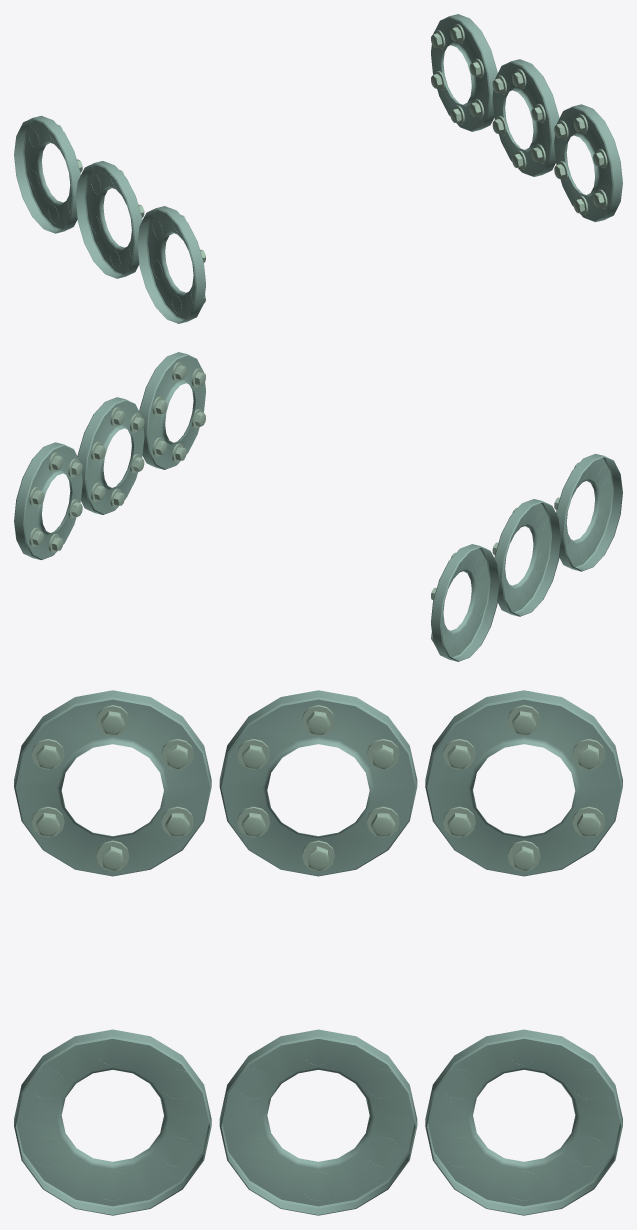
File: PipeComplexLarge_A3_04_End.fbx
3 views of the same model, one above another, from view 1: azimuth 30°, elevation 25°; view 2: azimuth 150°, elevation 25°; view 3: azimuth 270°, elevation 25° (orthographic). The views are drawn at different scales.
Visible parts, largest first — view 1: PipeComplexLarge_A3_04_End.001; view 2: PipeComplexLarge_A3_04_End.001; view 3: PipeComplexLarge_A3_04_End.001.
Part boxes in pixels (bbox=[...]): PipeComplexLarge_A3_04_End.001: bbox=[14, 14, 622, 323]; PipeComplexLarge_A3_04_End.001: bbox=[14, 352, 622, 661]; PipeComplexLarge_A3_04_End.001: bbox=[14, 690, 622, 1215].
Bounding box in the file's own units: 1.6 × 0.3846 × 1.18.
